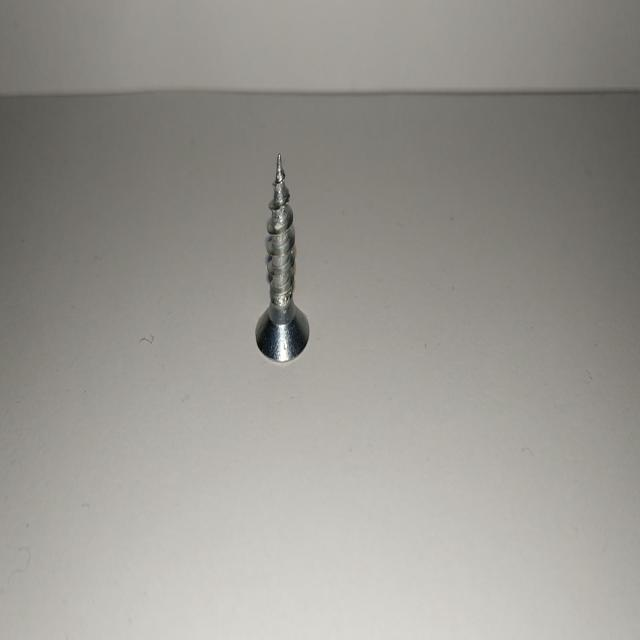Screw: (256, 152, 310, 361)
